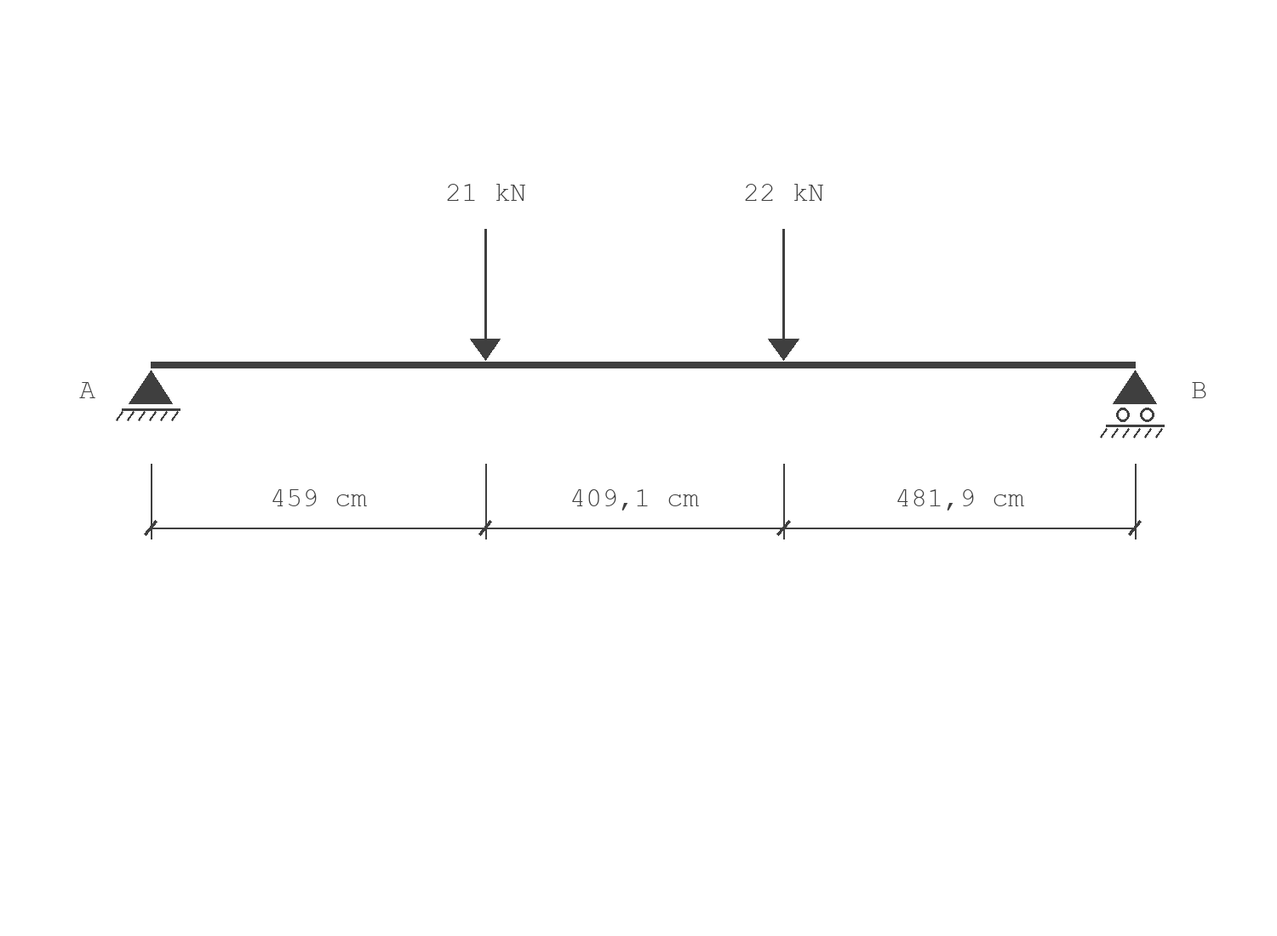pin_support: (116, 370, 180, 421)
point_load: (470, 229, 501, 361), (768, 229, 799, 361)
roller_support: (1100, 370, 1165, 438)
